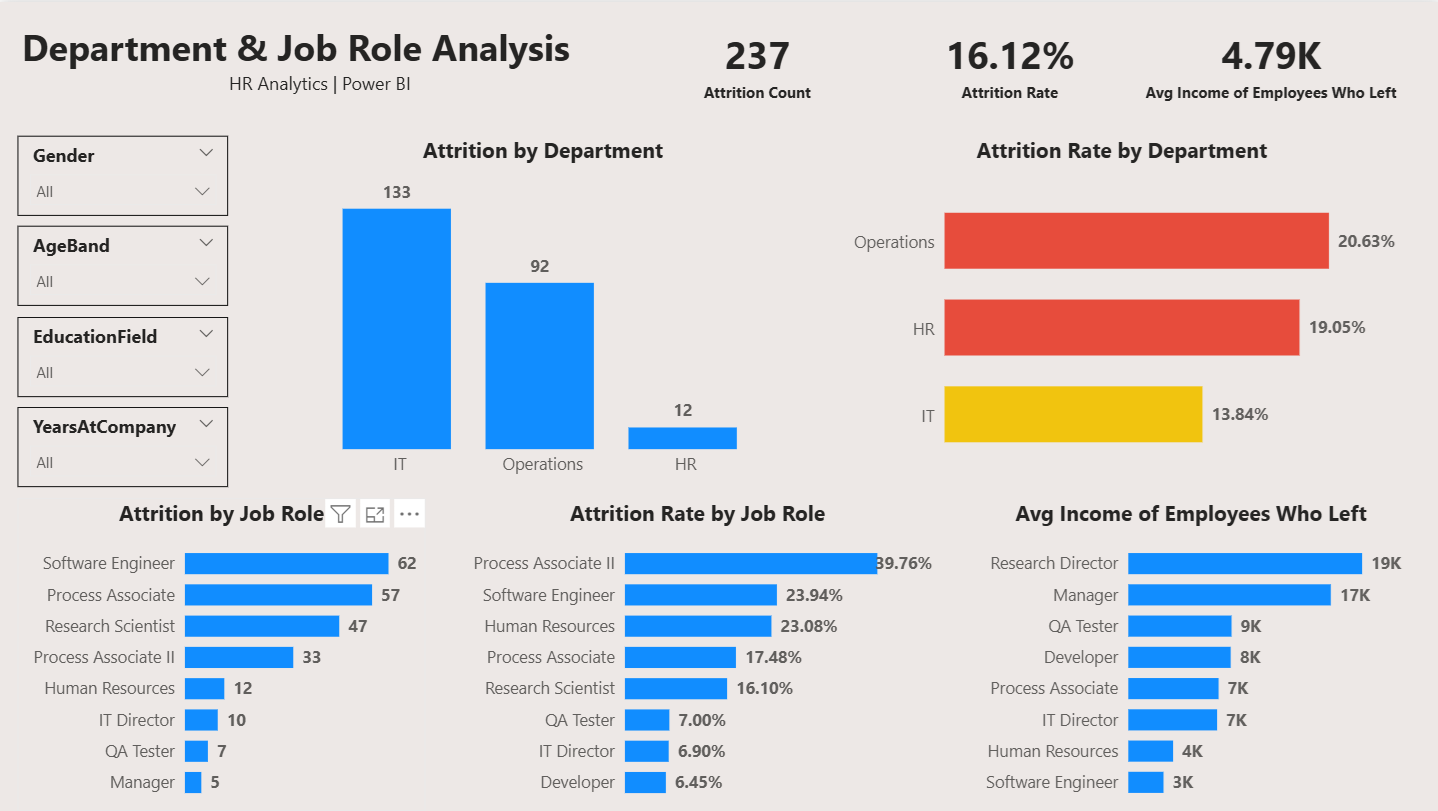

The dashboard page shown, as its layout file describes it:
{"tool":"powerbi","page":{"name":"Department & Role Analysis","canvas":[1280,720],"ordinal":1},"visuals":[{"type":"textbox","box":[14.7,13.5,539.7,74.5],"z":0},{"type":"card","fields":{"Values":["Key Measures.Employees Left"]},"box":[564.6,13.5,217.9,85.8],"z":1000},{"type":"card","fields":{"Values":["Key Measures.Attrition Rate"]},"box":[788.9,13.3,217.8,85.6],"z":2000},{"type":"card","fields":{"Values":["Key Measures.Avg Income (Employees Left)"]},"box":[1013.3,13.3,233.3,85.6],"z":3000},{"type":"clusteredBarChart","title":"Attrition by Job Role","fields":{"Category":["Dim_Job.JobRole"],"Y":["Key Measures.Employees Left"]},"box":[15.1,440.7,362.8,279.1],"z":4000},{"type":"group","id":"g1","title":"Group 1","box":[248.8,118.6,467.4,312.8],"z":5000},{"type":"clusteredColumnChart","title":"Attrition by Department","fields":{"Category":["Dim_Job.Department"],"Y":["Key Measures.Employees Left"]},"box":[248.8,118.6,467.4,312.8],"z":5000,"group":"g1"},{"type":"clusteredBarChart","title":"Attrition Rate by Job Role","fields":{"Category":["Dim_Job.JobRole"],"Y":["Key Measures.Attrition Rate"]},"box":[406.1,440.7,426.7,279.1],"z":6000},{"type":"slicer","fields":{"Values":["Dim_Employee.Gender"]},"box":[16,118.6,187.4,71.1],"z":7000},{"type":"slicer","fields":{"Values":["Dim_Employee.AgeBand"]},"box":[16,199.1,187.4,71.1],"z":8000},{"type":"slicer","fields":{"Values":["Dim_Employee.EducationField"]},"box":[16,279.7,187.4,71.1],"z":9000},{"type":"slicer","fields":{"Values":["Fact_Attrition.YearsAtCompany"]},"box":[16,360.2,187.4,71.1],"z":10000},{"type":"clusteredBarChart","title":"Avg Income of Employees Who Left","fields":{"Category":["Dim_Job.JobRole"],"Y":["Key Measures.Avg Income (Employees Left)"]},"box":[861.1,440.9,395.2,278.9],"z":11000},{"type":"clusteredBarChart","title":"Attrition Rate by Department","fields":{"Y":["Key Measures.Attrition Rate"],"Category":["Dim_Job.Department"]},"box":[747.7,118.6,498.8,312.8],"z":12000}]}

Visuals, with their boxes in screenshot pixels (x1, y1, x2, y2), scaled from the page's 1280x720 canvas onto the 1438x811 screenshot:
textbox: 17 15 623 99
card - Key Measures.Employees Left: 634 15 879 112
card - Key Measures.Attrition Rate: 886 15 1131 111
card - Key Measures.Avg Income (Employees Left): 1138 15 1400 111
"Attrition by Job Role" clusteredBarChart: 17 496 425 810
"Group 1" group: 280 134 805 486
"Attrition by Department" clusteredColumnChart: 280 134 805 486
"Attrition Rate by Job Role" clusteredBarChart: 456 496 936 810
slicer - Dim_Employee.Gender: 18 134 229 214
slicer - Dim_Employee.AgeBand: 18 224 229 304
slicer - Dim_Employee.EducationField: 18 315 229 395
slicer - Fact_Attrition.YearsAtCompany: 18 406 229 486
"Avg Income of Employees Who Left" clusteredBarChart: 967 497 1411 810
"Attrition Rate by Department" clusteredBarChart: 840 134 1400 486
